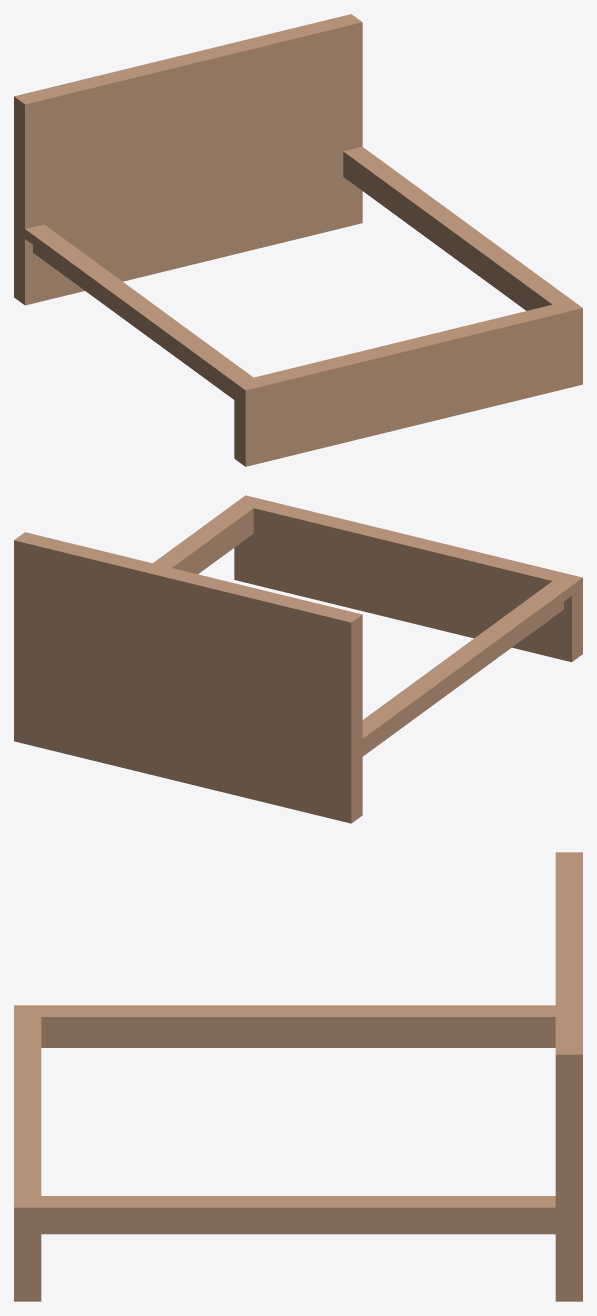
The model's file is Bed.fbx.
3 views of the same model, one above another, from view 1: azimuth 30°, elevation 25°; view 2: azimuth 150°, elevation 25°; view 3: azimuth 270°, elevation 25° (orthographic). The views are drawn at different scales.
Visible parts, largest first — view 1: Bed; view 2: Bed; view 3: Bed.
Part boxes in pixels (bbox=[...]): Bed: bbox=[14, 14, 582, 466]; Bed: bbox=[14, 495, 582, 823]; Bed: bbox=[14, 852, 582, 1301].
Bounding box in the file's own units: 1.76 × 0.9996 × 2.09.
